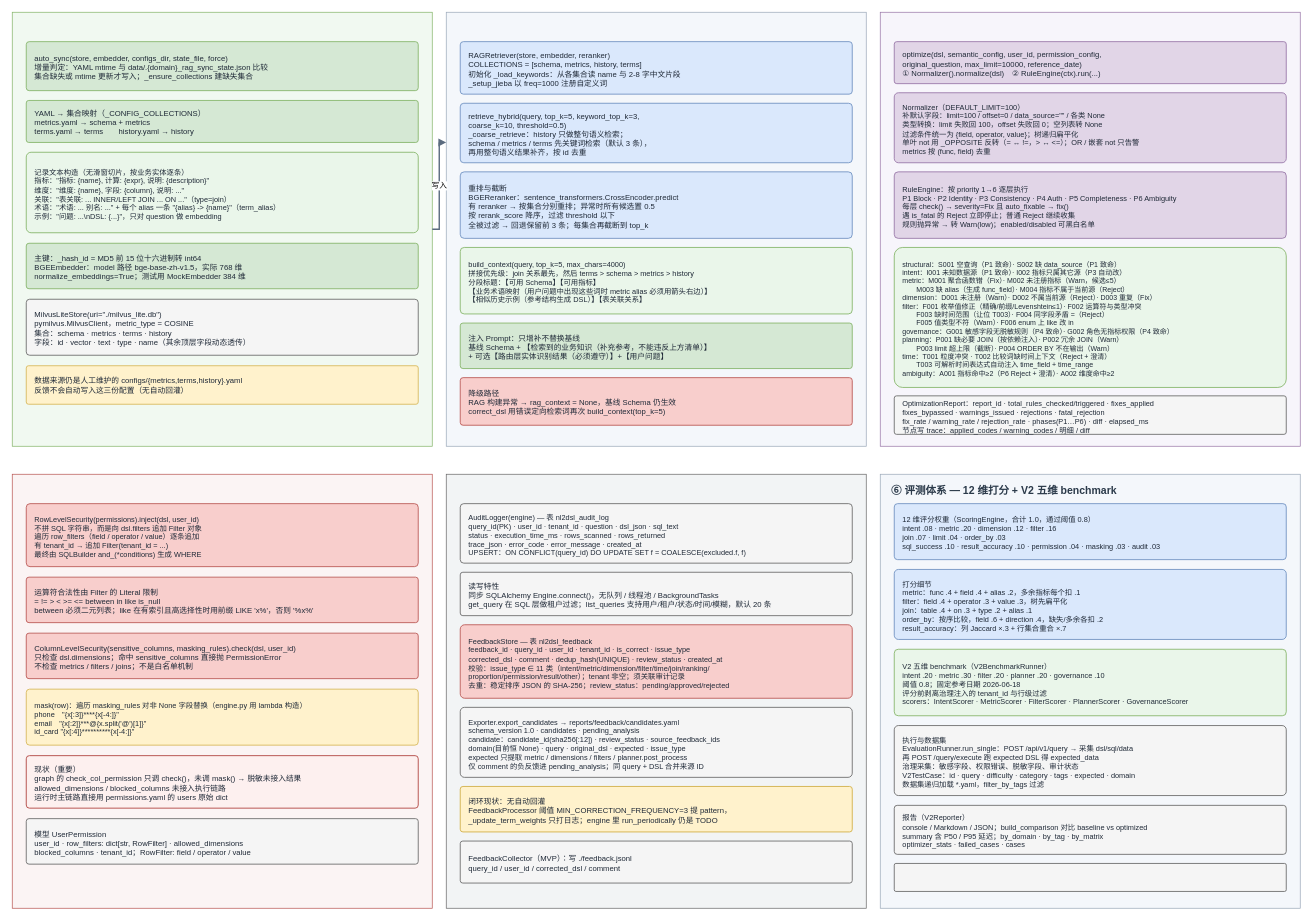
The diagram is 1313 pixels wide and 921 high, and some of its shapes have lost their labels. The box of each missing label's shape, as (x1, y1, x2, y2) in pixels:
CLI：nl2dsl-eval --dataset --domain --tags --format --weights: (893, 863, 1286, 892)
① RAG 索引构建 — rag/sync.py + embedder + store: (12, 12, 432, 446)
② RAG 检索链路 — 关键词 + 向量混合，再重排: (446, 12, 866, 446)
③ 语义优化器 — 28 条规则 · 6 个优先级（optimizer/）: (880, 12, 1300, 446)
④ 权限 — 行级过滤注入 · 列级敏感拦截 · 脱敏（部分未接入）: (12, 474, 432, 908)
⑤ 审计与反馈闭环（audit/ + feedback/）: (446, 474, 866, 908)
